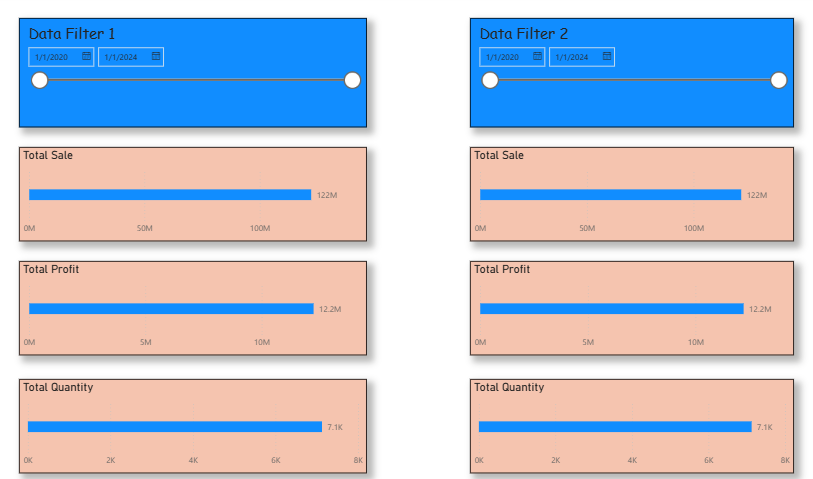

What the dashboard file says about the page in this screenshot:
{"tool":"powerbi","page":{"name":"Req 4","canvas":[1280,720],"ordinal":3},"visuals":[{"type":"slicer","fields":{"Values":["Fact.Date (dd/mm/yyyy)"]},"box":[74.6,33.7,509.3,159.5],"z":0},{"type":"slicer","fields":{"Values":["Fact.Date (dd/mm/yyyy)"]},"box":[734.6,33.7,474.1,159.5],"z":1000},{"type":"barChart","fields":{"Y":["Sum(Fact.Net Sale)"]},"box":[74.6,222.4,509.3,137.6],"z":2000},{"type":"barChart","fields":{"Y":["Sum(Fact.Profit)"]},"box":[74.6,389.3,509.3,137.6],"z":3000},{"type":"barChart","fields":{"Y":["Sum(Fact.Units Sold)"]},"box":[74.6,562,509.3,137.6],"z":4000},{"type":"barChart","fields":{"Y":["Sum(Fact.Net Sale)"]},"box":[734.6,222.4,474.1,137.6],"z":5000},{"type":"barChart","fields":{"Y":["Sum(Fact.Profit)"]},"box":[734.6,389.3,474.1,137.6],"z":6000},{"type":"barChart","fields":{"Y":["Sum(Fact.Units Sold)"]},"box":[734.6,562,474.1,137.6],"z":7000}]}

Visuals, with their boxes in screenshot pixels (x1, y1, x2, y2):
slicer - Fact.Date (dd/mm/yyyy): detection(23, 18, 366, 126)
slicer - Fact.Date (dd/mm/yyyy): detection(467, 18, 786, 126)
barChart - Sum(Fact.Net Sale): detection(23, 146, 366, 238)
barChart - Sum(Fact.Profit): detection(23, 258, 366, 351)
barChart - Sum(Fact.Units Sold): detection(23, 374, 366, 467)
barChart - Sum(Fact.Net Sale): detection(467, 146, 786, 238)
barChart - Sum(Fact.Profit): detection(467, 258, 786, 351)
barChart - Sum(Fact.Units Sold): detection(467, 374, 786, 467)
